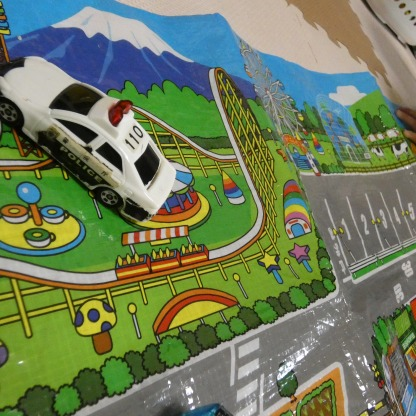car: (0, 54, 179, 223)
